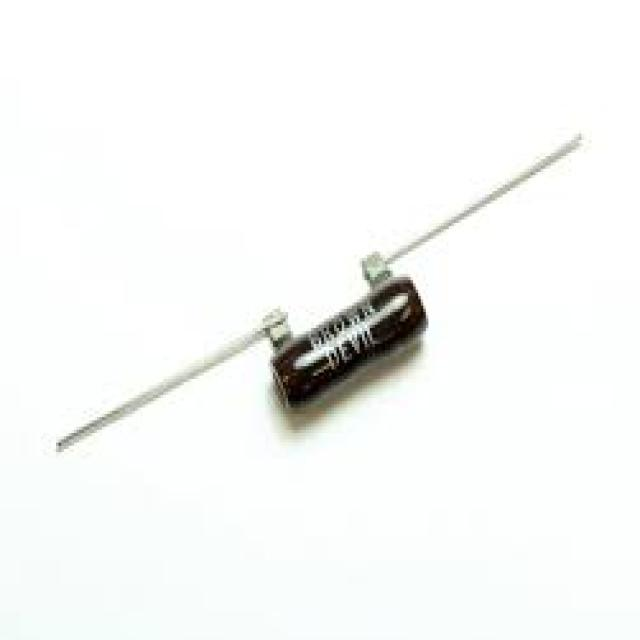Resistor: (266, 272, 431, 412)
